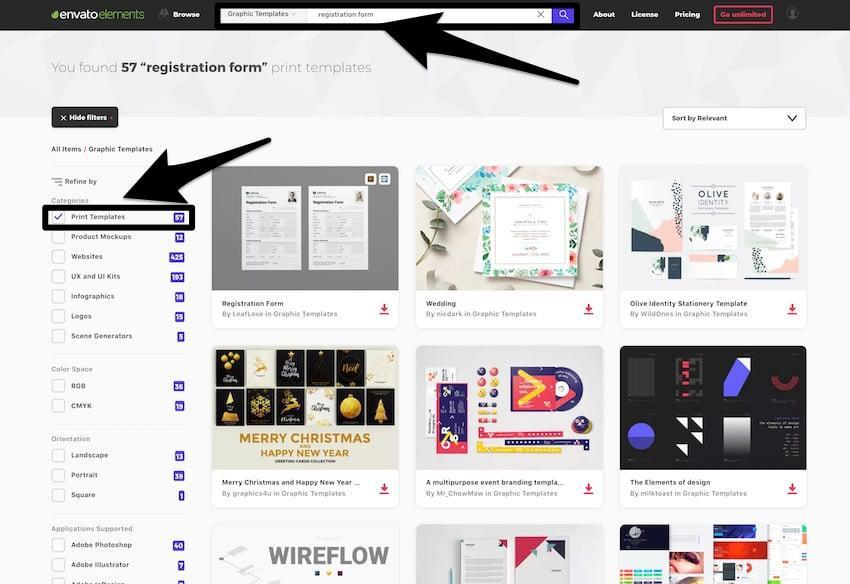button: (53, 108, 120, 128), (716, 7, 773, 23), (554, 9, 576, 24)
checkbox: (53, 451, 67, 464), (53, 291, 66, 304), (53, 331, 66, 344), (53, 539, 65, 553), (53, 232, 66, 244), (54, 311, 66, 324), (54, 251, 66, 264), (54, 271, 66, 284), (53, 470, 66, 482), (53, 490, 65, 503), (53, 560, 66, 572), (53, 212, 66, 224), (53, 400, 65, 412), (54, 381, 66, 393)
dropdown: (664, 109, 806, 131), (222, 10, 309, 24)
icon: (784, 3, 804, 25)
input: (308, 10, 553, 24)
label: (72, 332, 135, 343), (72, 541, 134, 552), (72, 561, 131, 572), (72, 233, 136, 243), (70, 214, 129, 224), (71, 272, 123, 283), (72, 292, 116, 302), (71, 452, 111, 462), (71, 253, 106, 262), (71, 471, 101, 481), (72, 491, 97, 501), (70, 402, 94, 412), (71, 312, 94, 322), (72, 383, 88, 392)
